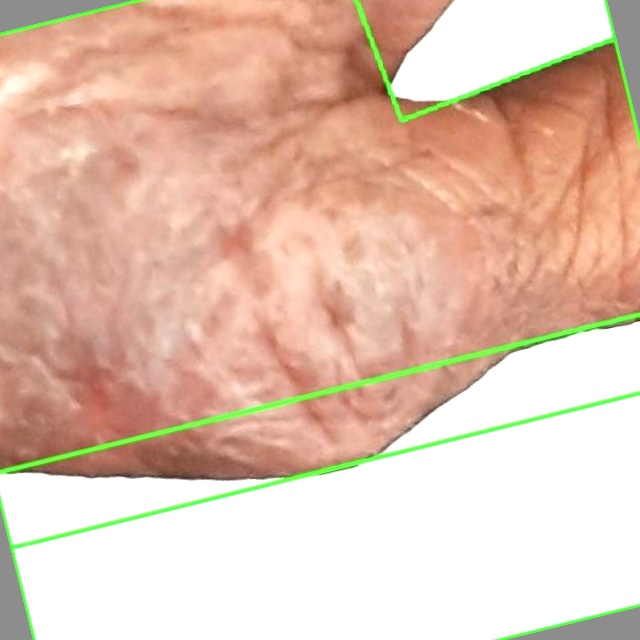Eczema: (0, 0, 639, 547), (0, 314, 639, 639)
